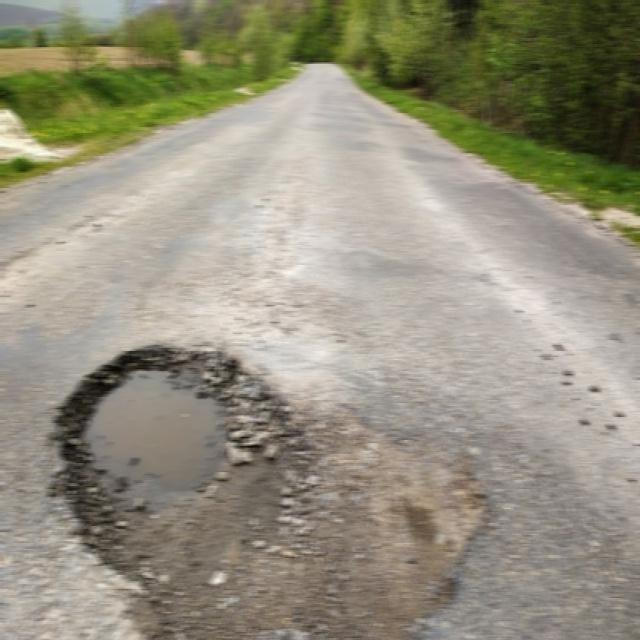Pothole: (43, 330, 511, 640)
